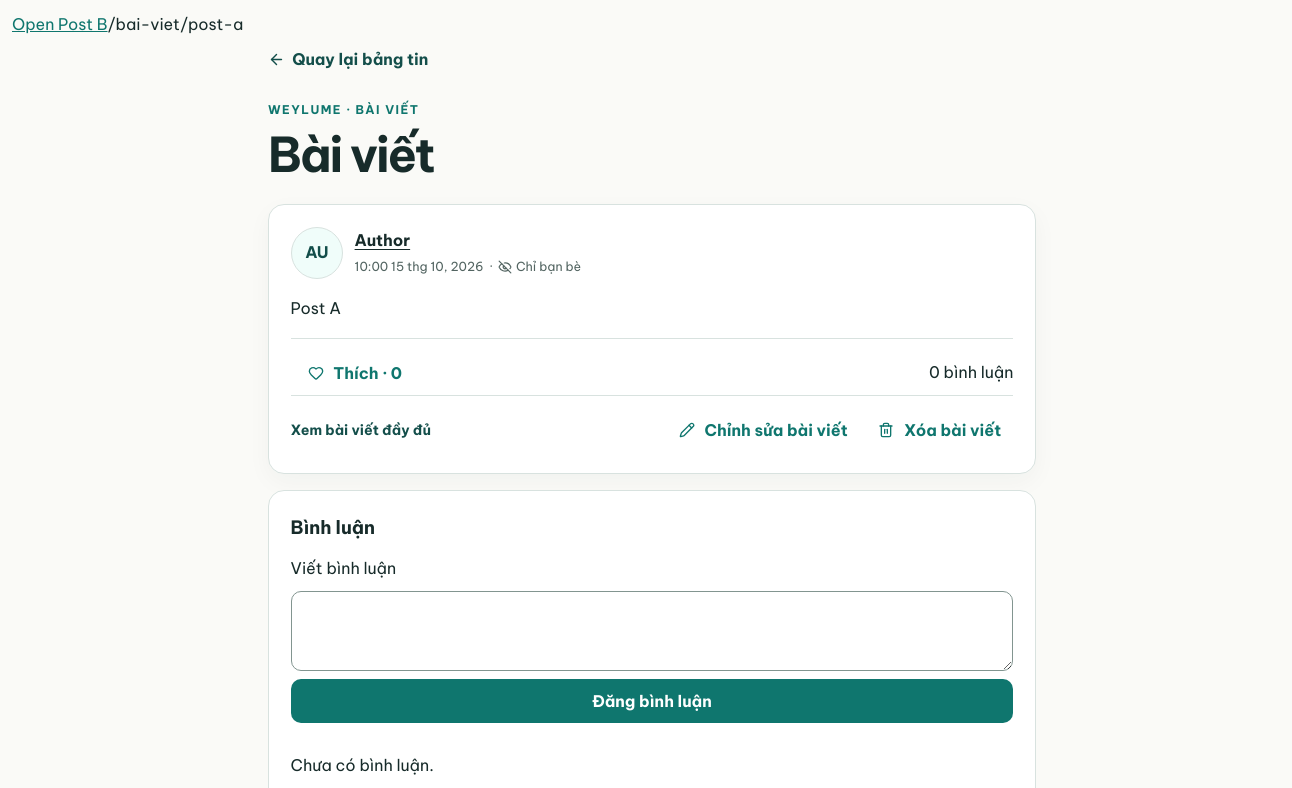
it: PostDetailPage route identity › ignores a late Post A edit completion after navigating to Post B
Check: the text "Post A" is shown, box [291,298,341,318]
Click the button "Chỉnh sửa bài viết". click: (763, 430)
box: [667,408,860,452]
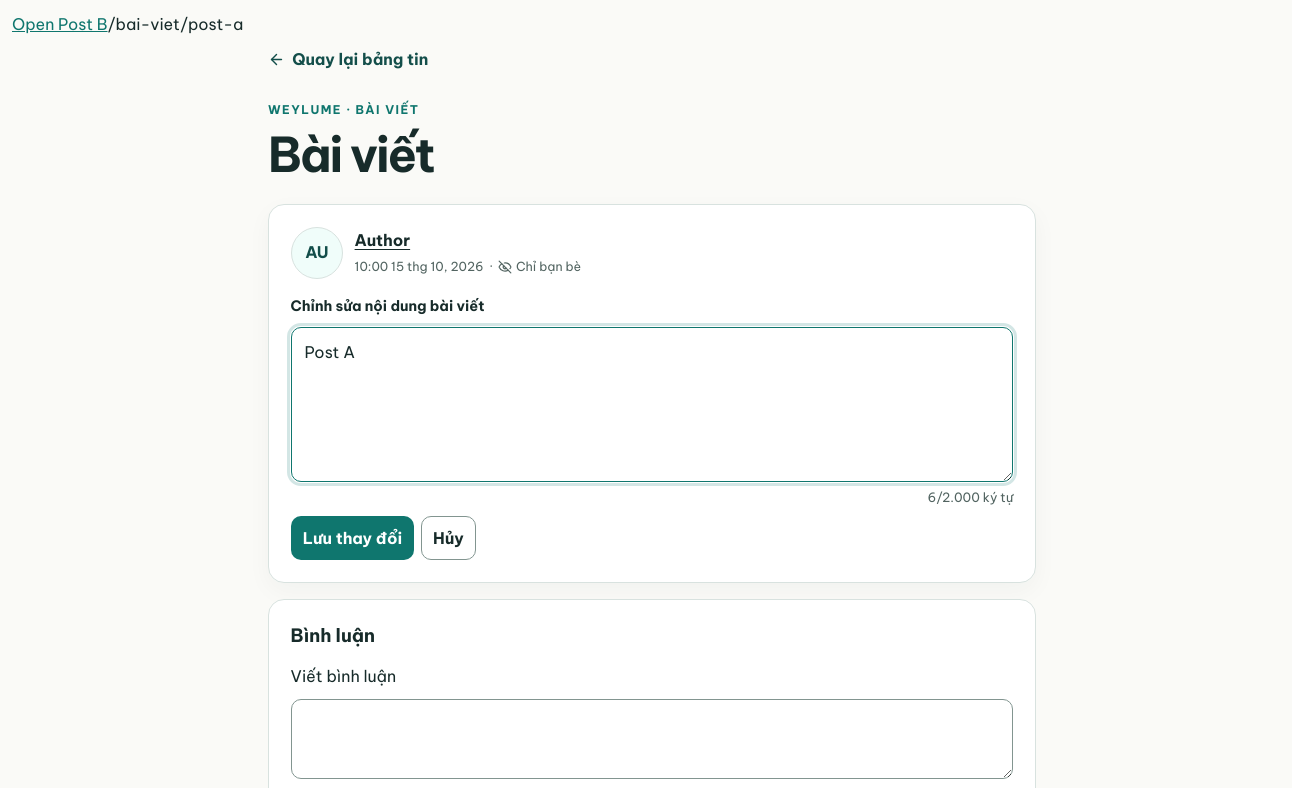
Replace the text in the text box labelled "Chỉnh sửa nội dung bài viết" with "Late Post A update". click: (652, 404)
box: [291,326,1013,482]
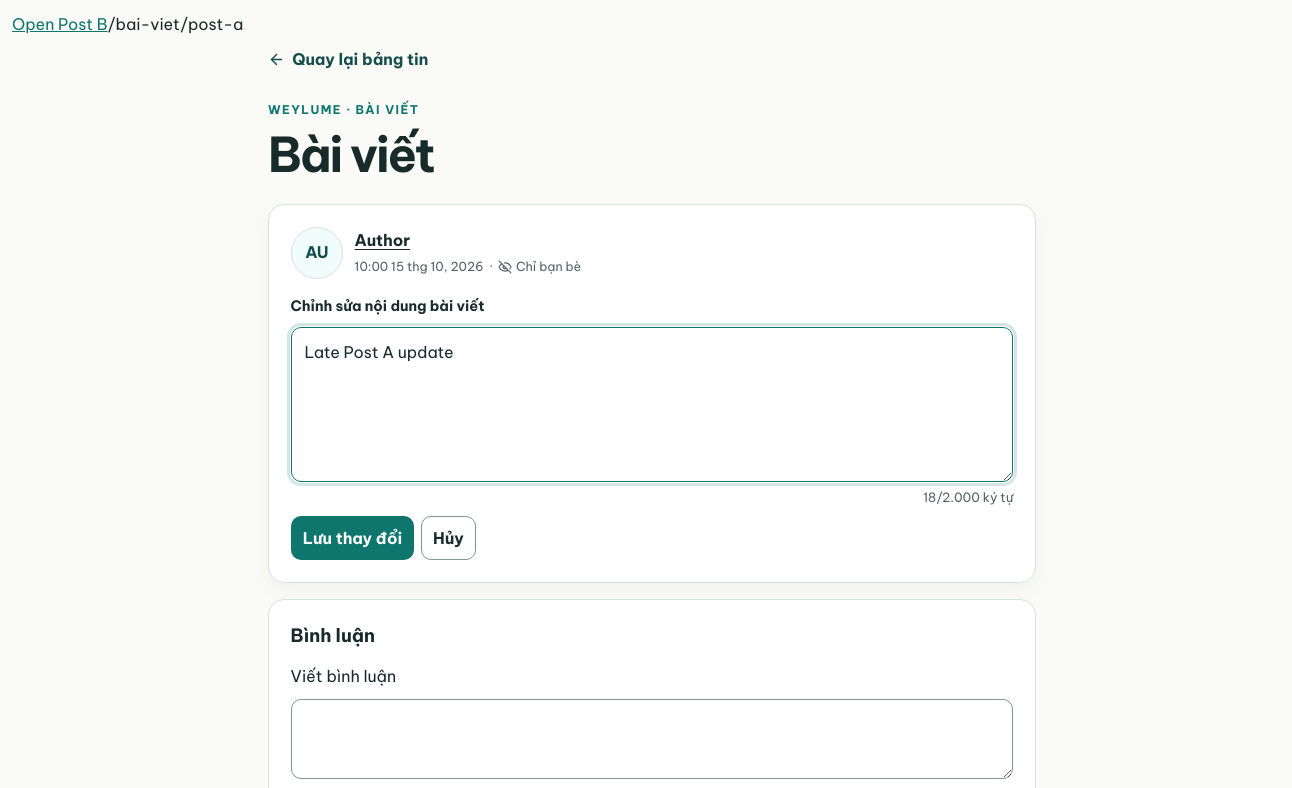
Click the button "Lưu thay đổi". click: (352, 538)
box: [291,516,414,560]
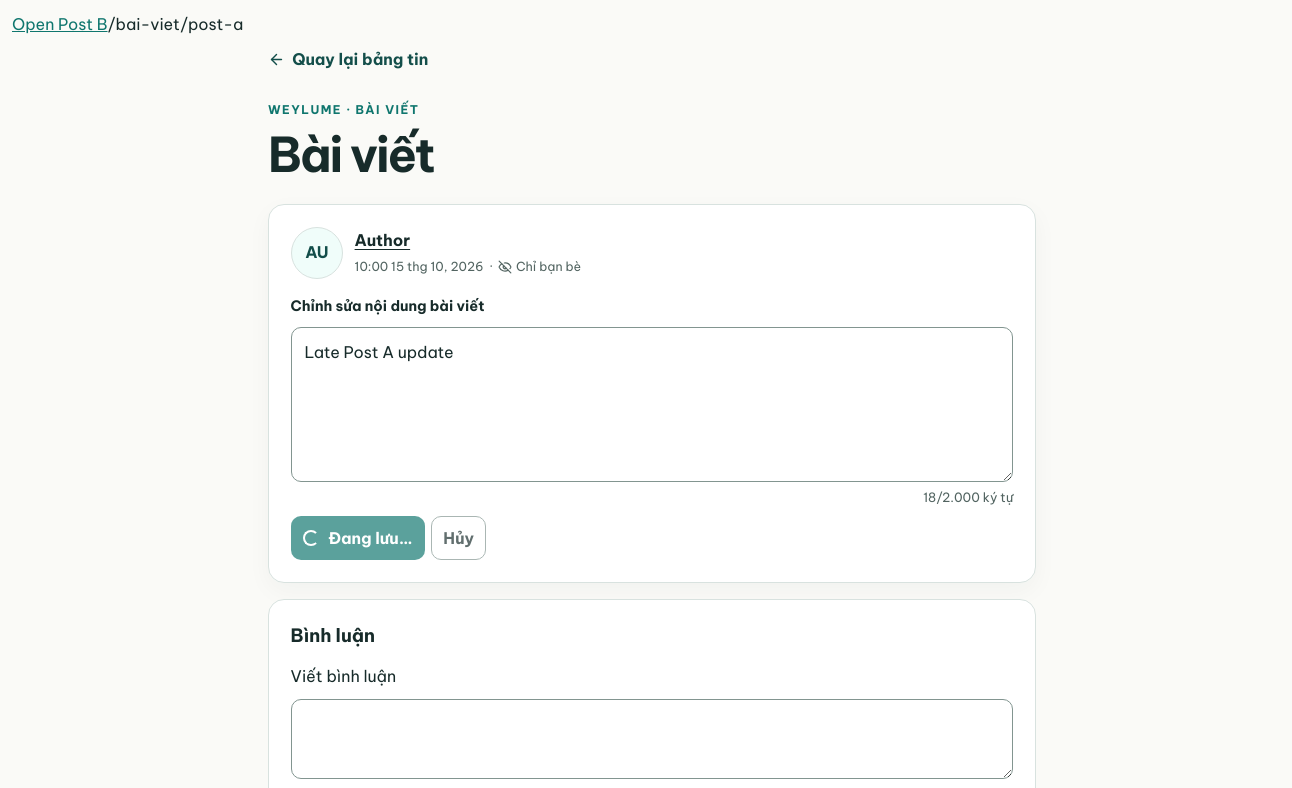
Click the link "Open Post B". click: (60, 24)
box: [12,14,108,34]
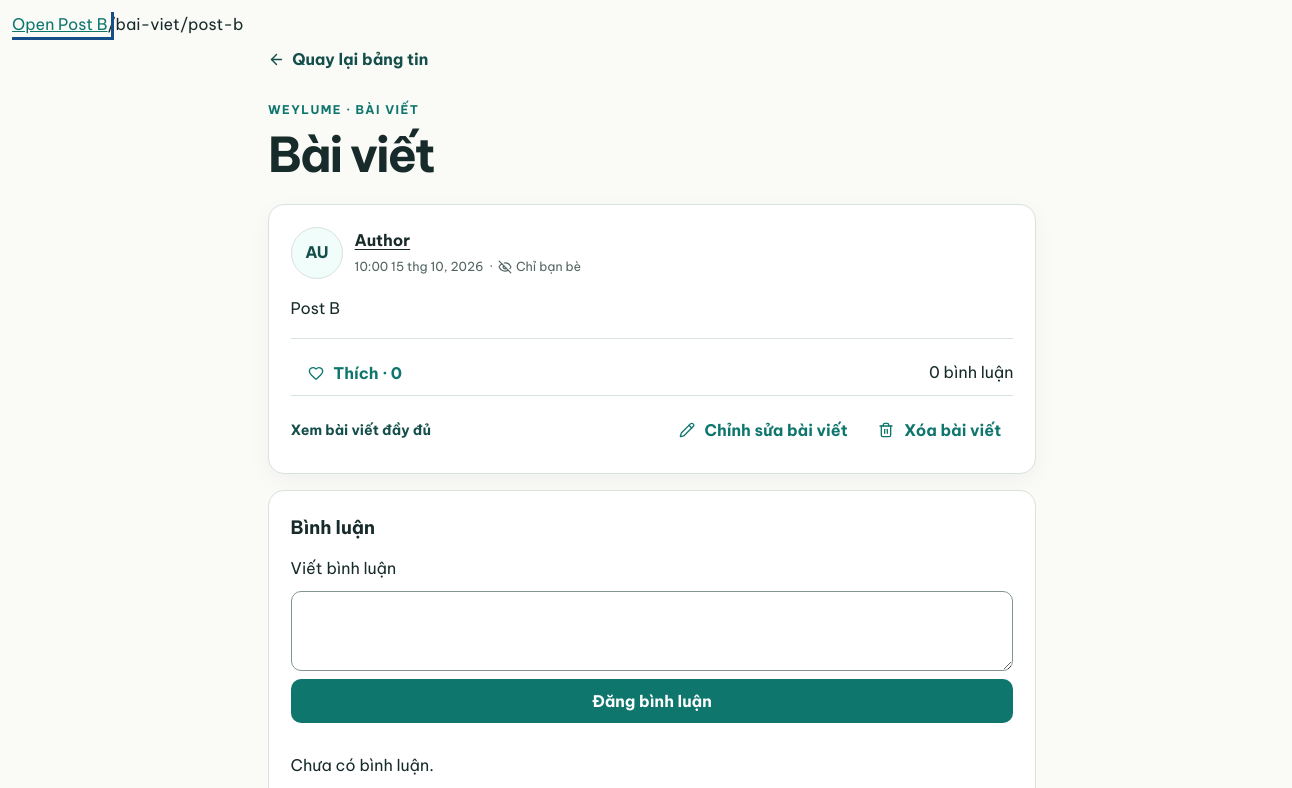
Check: the text "Late Post A update" is not shown
Check: the text "Post B" is shown, box [291,298,340,318]
Check: the text "/bai-viet/post-b" is shown, box [108,14,244,34]
